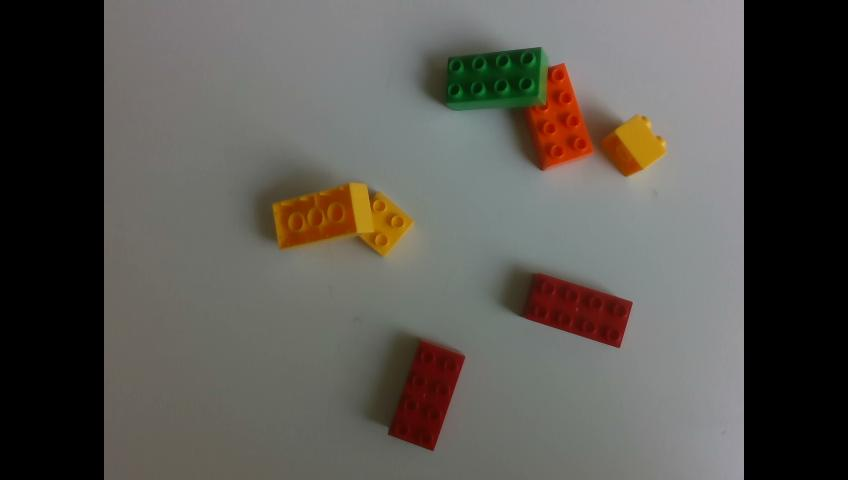2x2_yellow: (600, 113, 667, 176), (361, 192, 415, 256)
4x2_green: (448, 48, 548, 110)
4x2_orange: (525, 63, 592, 171)
4x2_red: (388, 339, 464, 450), (524, 273, 631, 347)
4x2_yellow: (273, 181, 375, 248)
